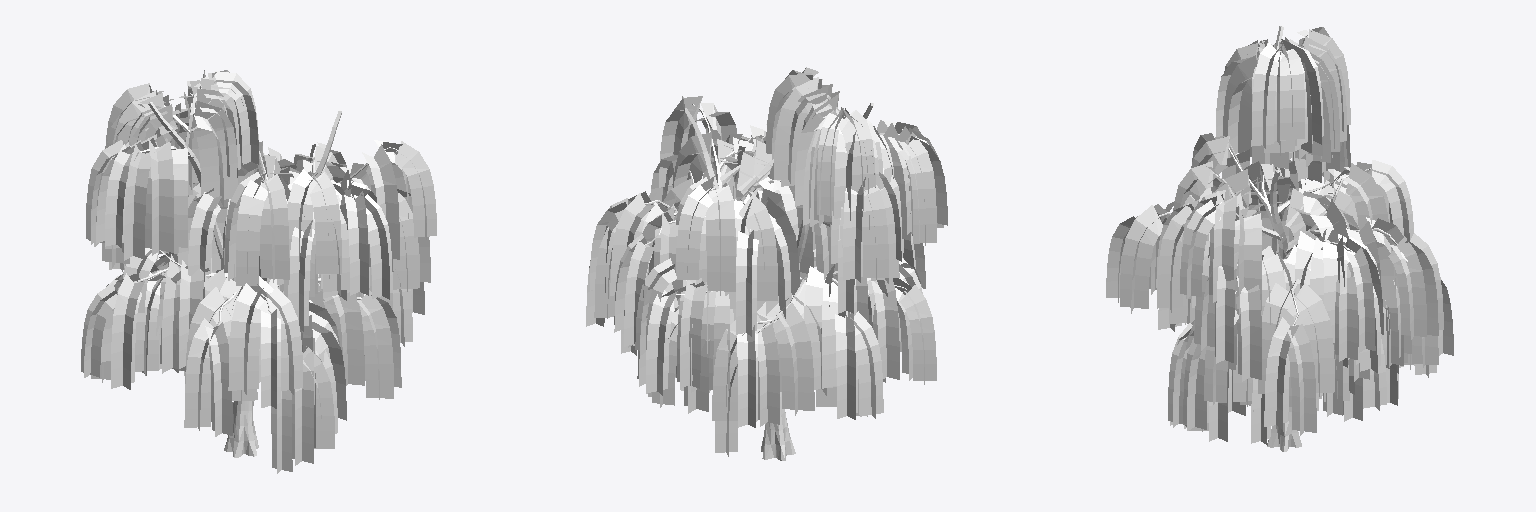
Rendered from tree_willow.obj.
3 renders of one model, left to right at view 1: azimuth 30°, elevation 25°; view 2: azimuth 150°, elevation 25°; view 3: azimuth 270°, elevation 25°, orthographic.
Parts seen in each view (by area): view 1: tree; view 2: tree; view 3: tree.
Boxes of the visible parts, <box> form: tree: <box>81,70,436,473</box>; tree: <box>586,67,947,460</box>; tree: <box>1106,26,1453,451</box>.
Size of the model in its own units: 33.35 by 36.2 by 29.46.